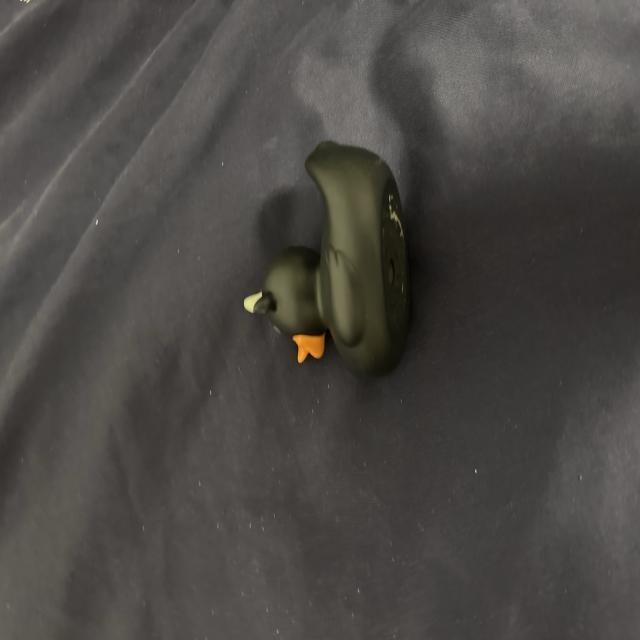rubber-duck: (243, 141, 407, 373)
